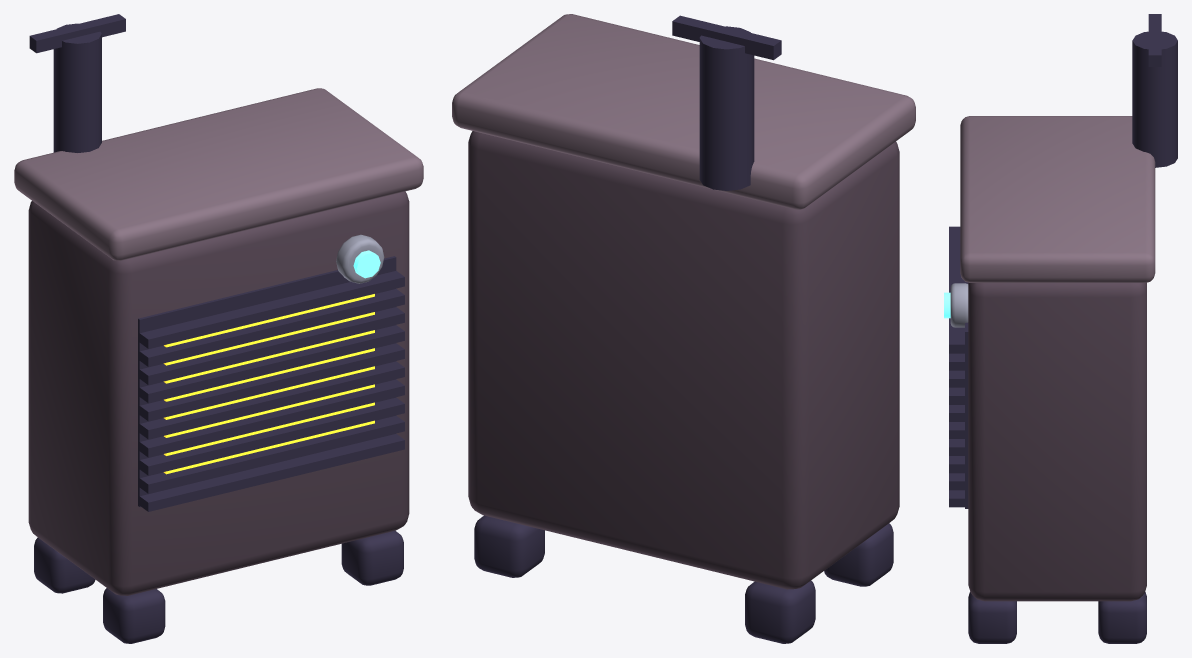
File: heater.glb
3 renders of one model, left to right at view 1: azimuth 30°, elevation 25°; view 2: azimuth 150°, elevation 25°; view 3: azimuth 270°, elevation 25°, orthographic. The views are drawn at different scales.
Visible parts, largest first — view 1: heater; view 2: heater; view 3: heater.
Boxes of the visible parts, x1,y1,x2,y2 form: heater: (14, 14, 423, 643); heater: (452, 14, 915, 643); heater: (944, 14, 1177, 643).
Bounding box in the file's own units: 1.05 × 1.72 × 0.72.
